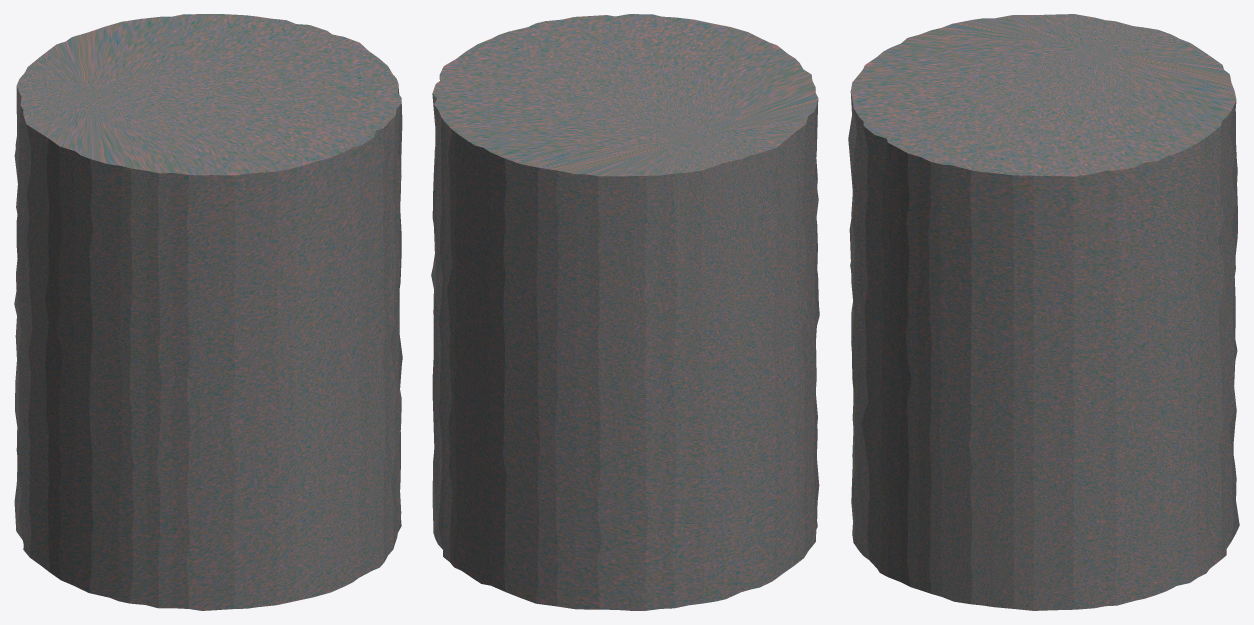
Rendered from barrel_65.dae.
3 renders of one model, left to right at view 1: azimuth 30°, elevation 25°; view 2: azimuth 150°, elevation 25°; view 3: azimuth 270°, elevation 25°, orthographic.
Parts seen in each view (by area): view 1: Cylinder; view 2: Cylinder; view 3: Cylinder.
Boxes of the visible parts, x1=… form: Cylinder: x1=14, y1=14, x2=402, y2=610; Cylinder: x1=431, y1=14, x2=819, y2=610; Cylinder: x1=848, y1=14, x2=1239, y2=610.
Size of the model in its own units: 0.8124 by 0.8173 by 1.
Materials: 1 (1 with a texture image).
